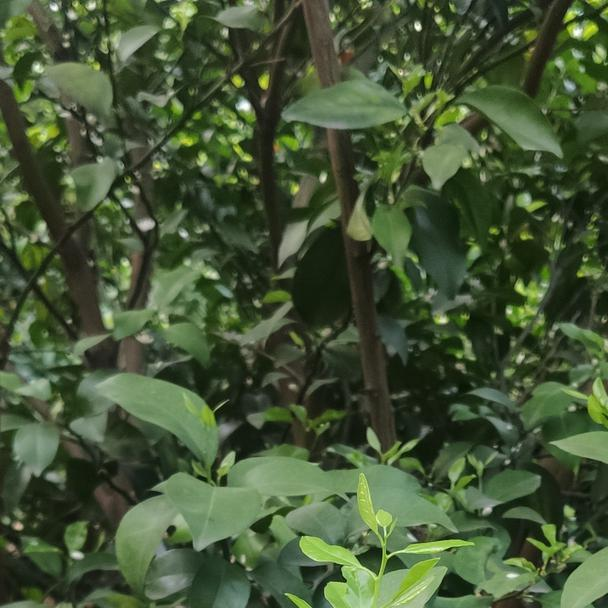shoot: (311, 475, 459, 608)
